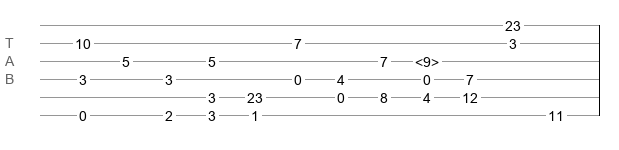0: (79, 108, 87, 118), (294, 72, 302, 82), (337, 90, 345, 100), (423, 72, 431, 82)
1: (251, 108, 259, 118)
10: (75, 36, 91, 46)
11: (548, 108, 564, 118)
12: (462, 90, 478, 100)
2: (165, 108, 173, 118)
23: (247, 90, 263, 100), (505, 18, 521, 28)
3: (79, 72, 87, 82), (165, 72, 173, 82), (208, 90, 216, 100), (208, 108, 216, 118), (509, 36, 517, 46)
4: (337, 72, 345, 82), (423, 90, 431, 100)
5: (122, 54, 130, 64), (208, 54, 216, 64)
7: (294, 36, 302, 46), (380, 54, 388, 64), (466, 72, 474, 82)
8: (380, 90, 388, 100)
harmonic: (415, 54, 439, 64)
